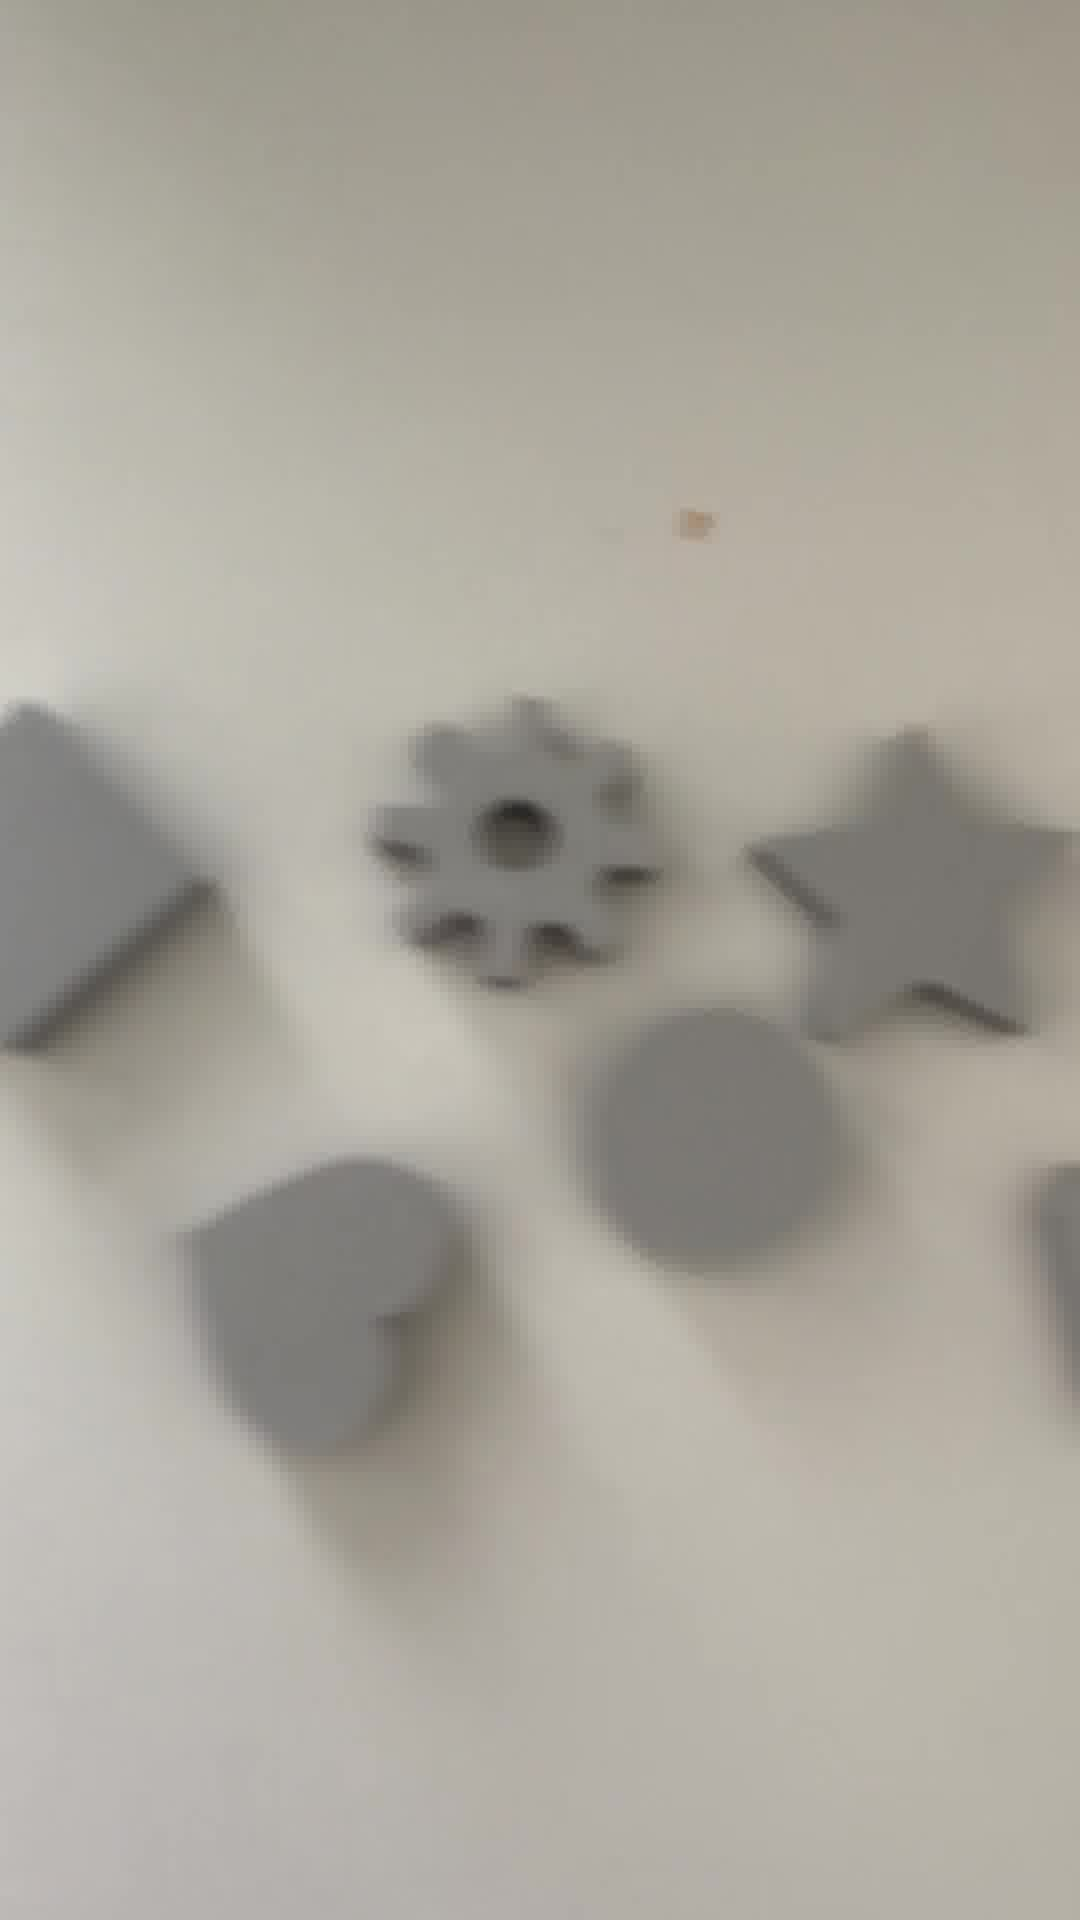Gray circle: (574, 1007, 851, 1276)
Gray gear: (375, 684, 659, 1007)
Gray heart: (178, 1160, 500, 1458)
Gray square: (1, 694, 233, 1093)
Gray star: (746, 712, 1080, 1063)
